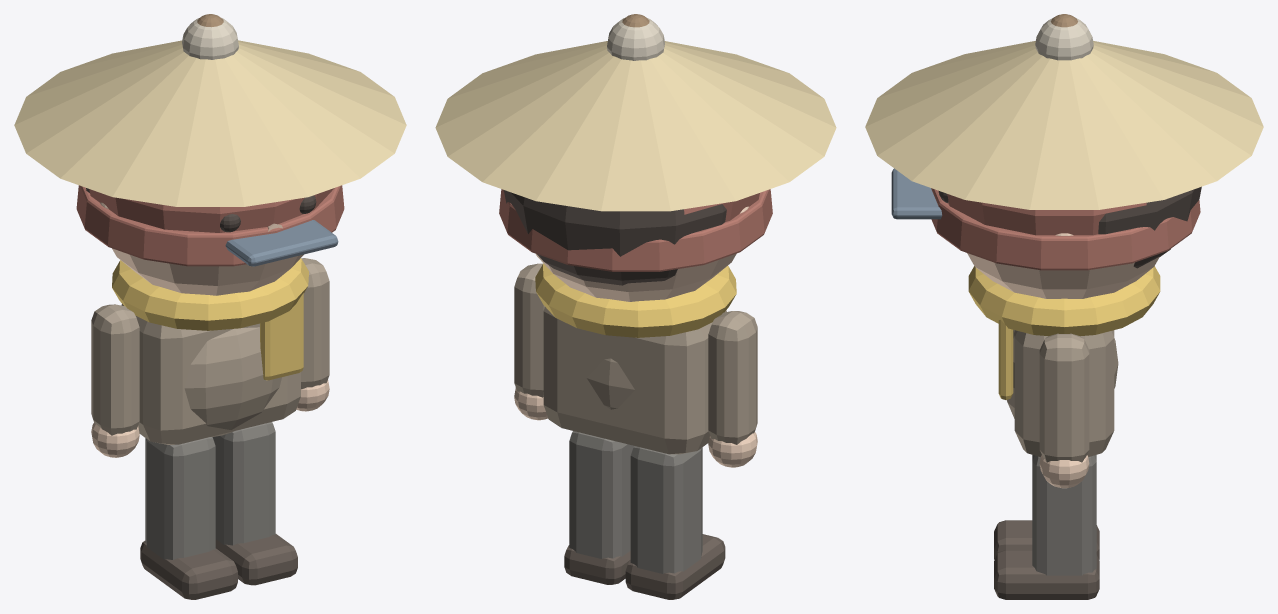
File: character.glb
The picture shows the model from 3 angles, left to right: view 1: azimuth 30°, elevation 25°; view 2: azimuth 150°, elevation 25°; view 3: azimuth 270°, elevation 25°; orthographic projection. The views are drawn at different scales.
Parts seen in each view (by area): view 1: HatNonLa, Torso, HatBeanie, LegL, Scarf, LegR, ArmL, Head, ArmR, HatCap; view 2: HatNonLa, Torso, Head, LegL, HatBeanie, LegR, Scarf, ArmL, ArmR; view 3: HatNonLa, HatBeanie, LegR, Scarf, ArmR, Head, Torso, HatCap, LegL.
Part boxes in pixels (x1=…): HatNonLa: x1=14, y1=14, x2=406, y2=206; Torso: x1=121, y1=304, x2=300, y2=444; HatBeanie: x1=76, y1=17, x2=344, y2=266; LegL: x1=140, y1=437, x2=237, y2=599; Scarf: x1=112, y1=258, x2=308, y2=380; LegR: x1=212, y1=422, x2=297, y2=585; ArmL: x1=91, y1=304, x2=139, y2=457; Head: x1=86, y1=188, x2=316, y2=295; ArmR: x1=296, y1=258, x2=329, y2=411; HatCap: x1=225, y1=220, x2=338, y2=266; HatNonLa: x1=435, y1=14, x2=836, y2=211; Torso: x1=543, y1=307, x2=726, y2=454; Head: x1=504, y1=190, x2=748, y2=301; LegL: x1=625, y1=446, x2=725, y2=599; HatBeanie: x1=499, y1=18, x2=772, y2=271; LegR: x1=564, y1=431, x2=633, y2=584; Scarf: x1=535, y1=263, x2=736, y2=337; ArmL: x1=708, y1=311, x2=757, y2=467; ArmR: x1=514, y1=263, x2=548, y2=420; HatNonLa: x1=865, y1=14, x2=1263, y2=209; HatBeanie: x1=931, y1=17, x2=1200, y2=270; LegR: x1=994, y1=455, x2=1099, y2=599; Scarf: x1=968, y1=266, x2=1160, y2=399; ArmR: x1=1039, y1=333, x2=1089, y2=488; Head: x1=938, y1=186, x2=1201, y2=298; Torso: x1=1006, y1=330, x2=1118, y2=456; HatCap: x1=891, y1=168, x2=942, y2=219; LegL: x1=994, y1=520, x2=1099, y2=559.
Size of the model in its own units: 1.34 by 2.11 by 1.36.
